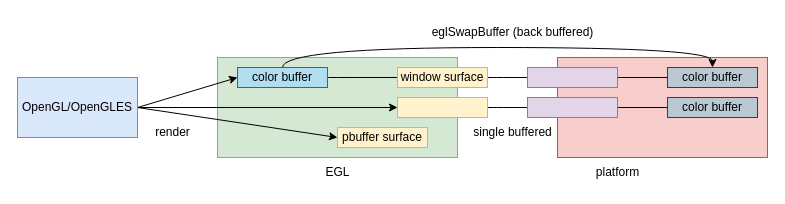
This 785x204 diagram has some shape labels left out. The shapes that lost their labels are listed below. From the top down, each one's centre as x and y in pixels, then its label:
pixel 572 77: native window
pixel 442 107: pixmap surface
pixel 572 107: native pixmap
